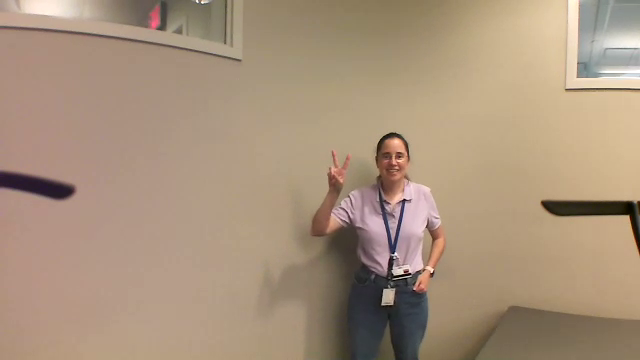peace: (322, 147, 358, 194)
